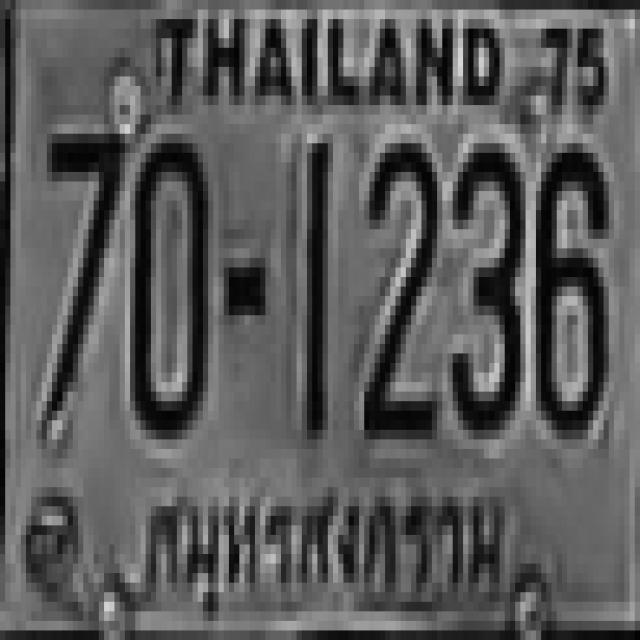0: (135, 134, 208, 430)
1: (302, 134, 328, 430), (304, 134, 326, 430)
2: (362, 134, 434, 430)
3: (448, 134, 520, 430)
6: (530, 134, 604, 430)
7: (44, 124, 122, 420)
SamutSongkhram: (139, 458, 508, 626)
